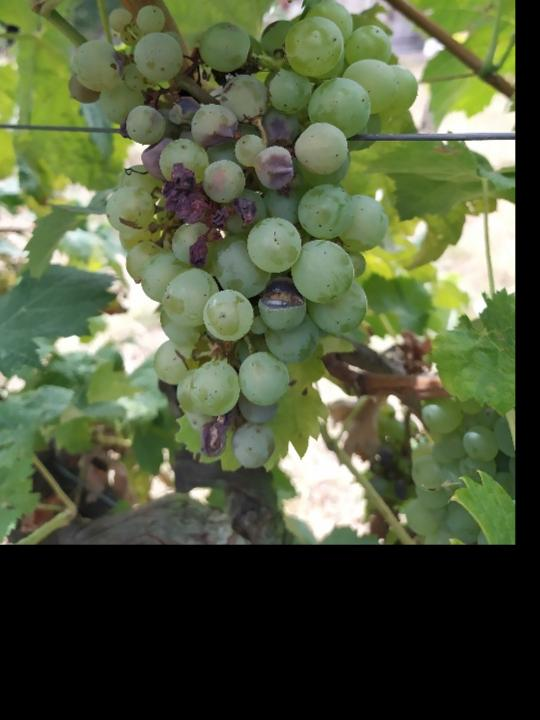grape: (68, 0, 421, 472)
